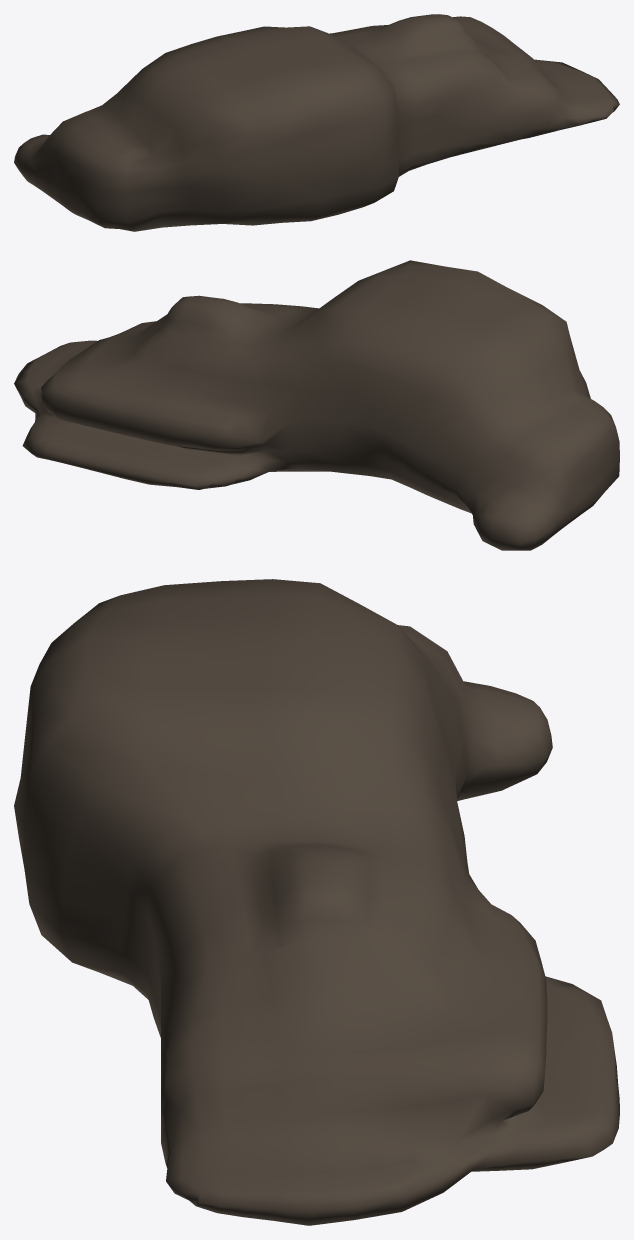
The model's file is FlatShaleRock.fbx.
3 renders of one model, top to bottom at view 1: azimuth 30°, elevation 25°; view 2: azimuth 150°, elevation 25°; view 3: azimuth 270°, elevation 25°, orthographic. The views are drawn at different scales.
Parts seen in each view (by area): view 1: polySurface1; view 2: polySurface1; view 3: polySurface1.
Part boxes in pixels (x1=…): polySurface1: x1=14, y1=14, x2=619, y2=231; polySurface1: x1=14, y1=260, x2=619, y2=550; polySurface1: x1=14, y1=579, x2=619, y2=1225.
Bounding box in the file's own units: 7.79 × 1.99 × 4.08.
